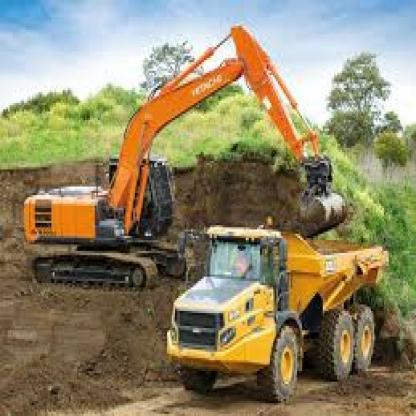dump_truck: (152, 212, 388, 390)
excavator: (15, 17, 358, 320)
